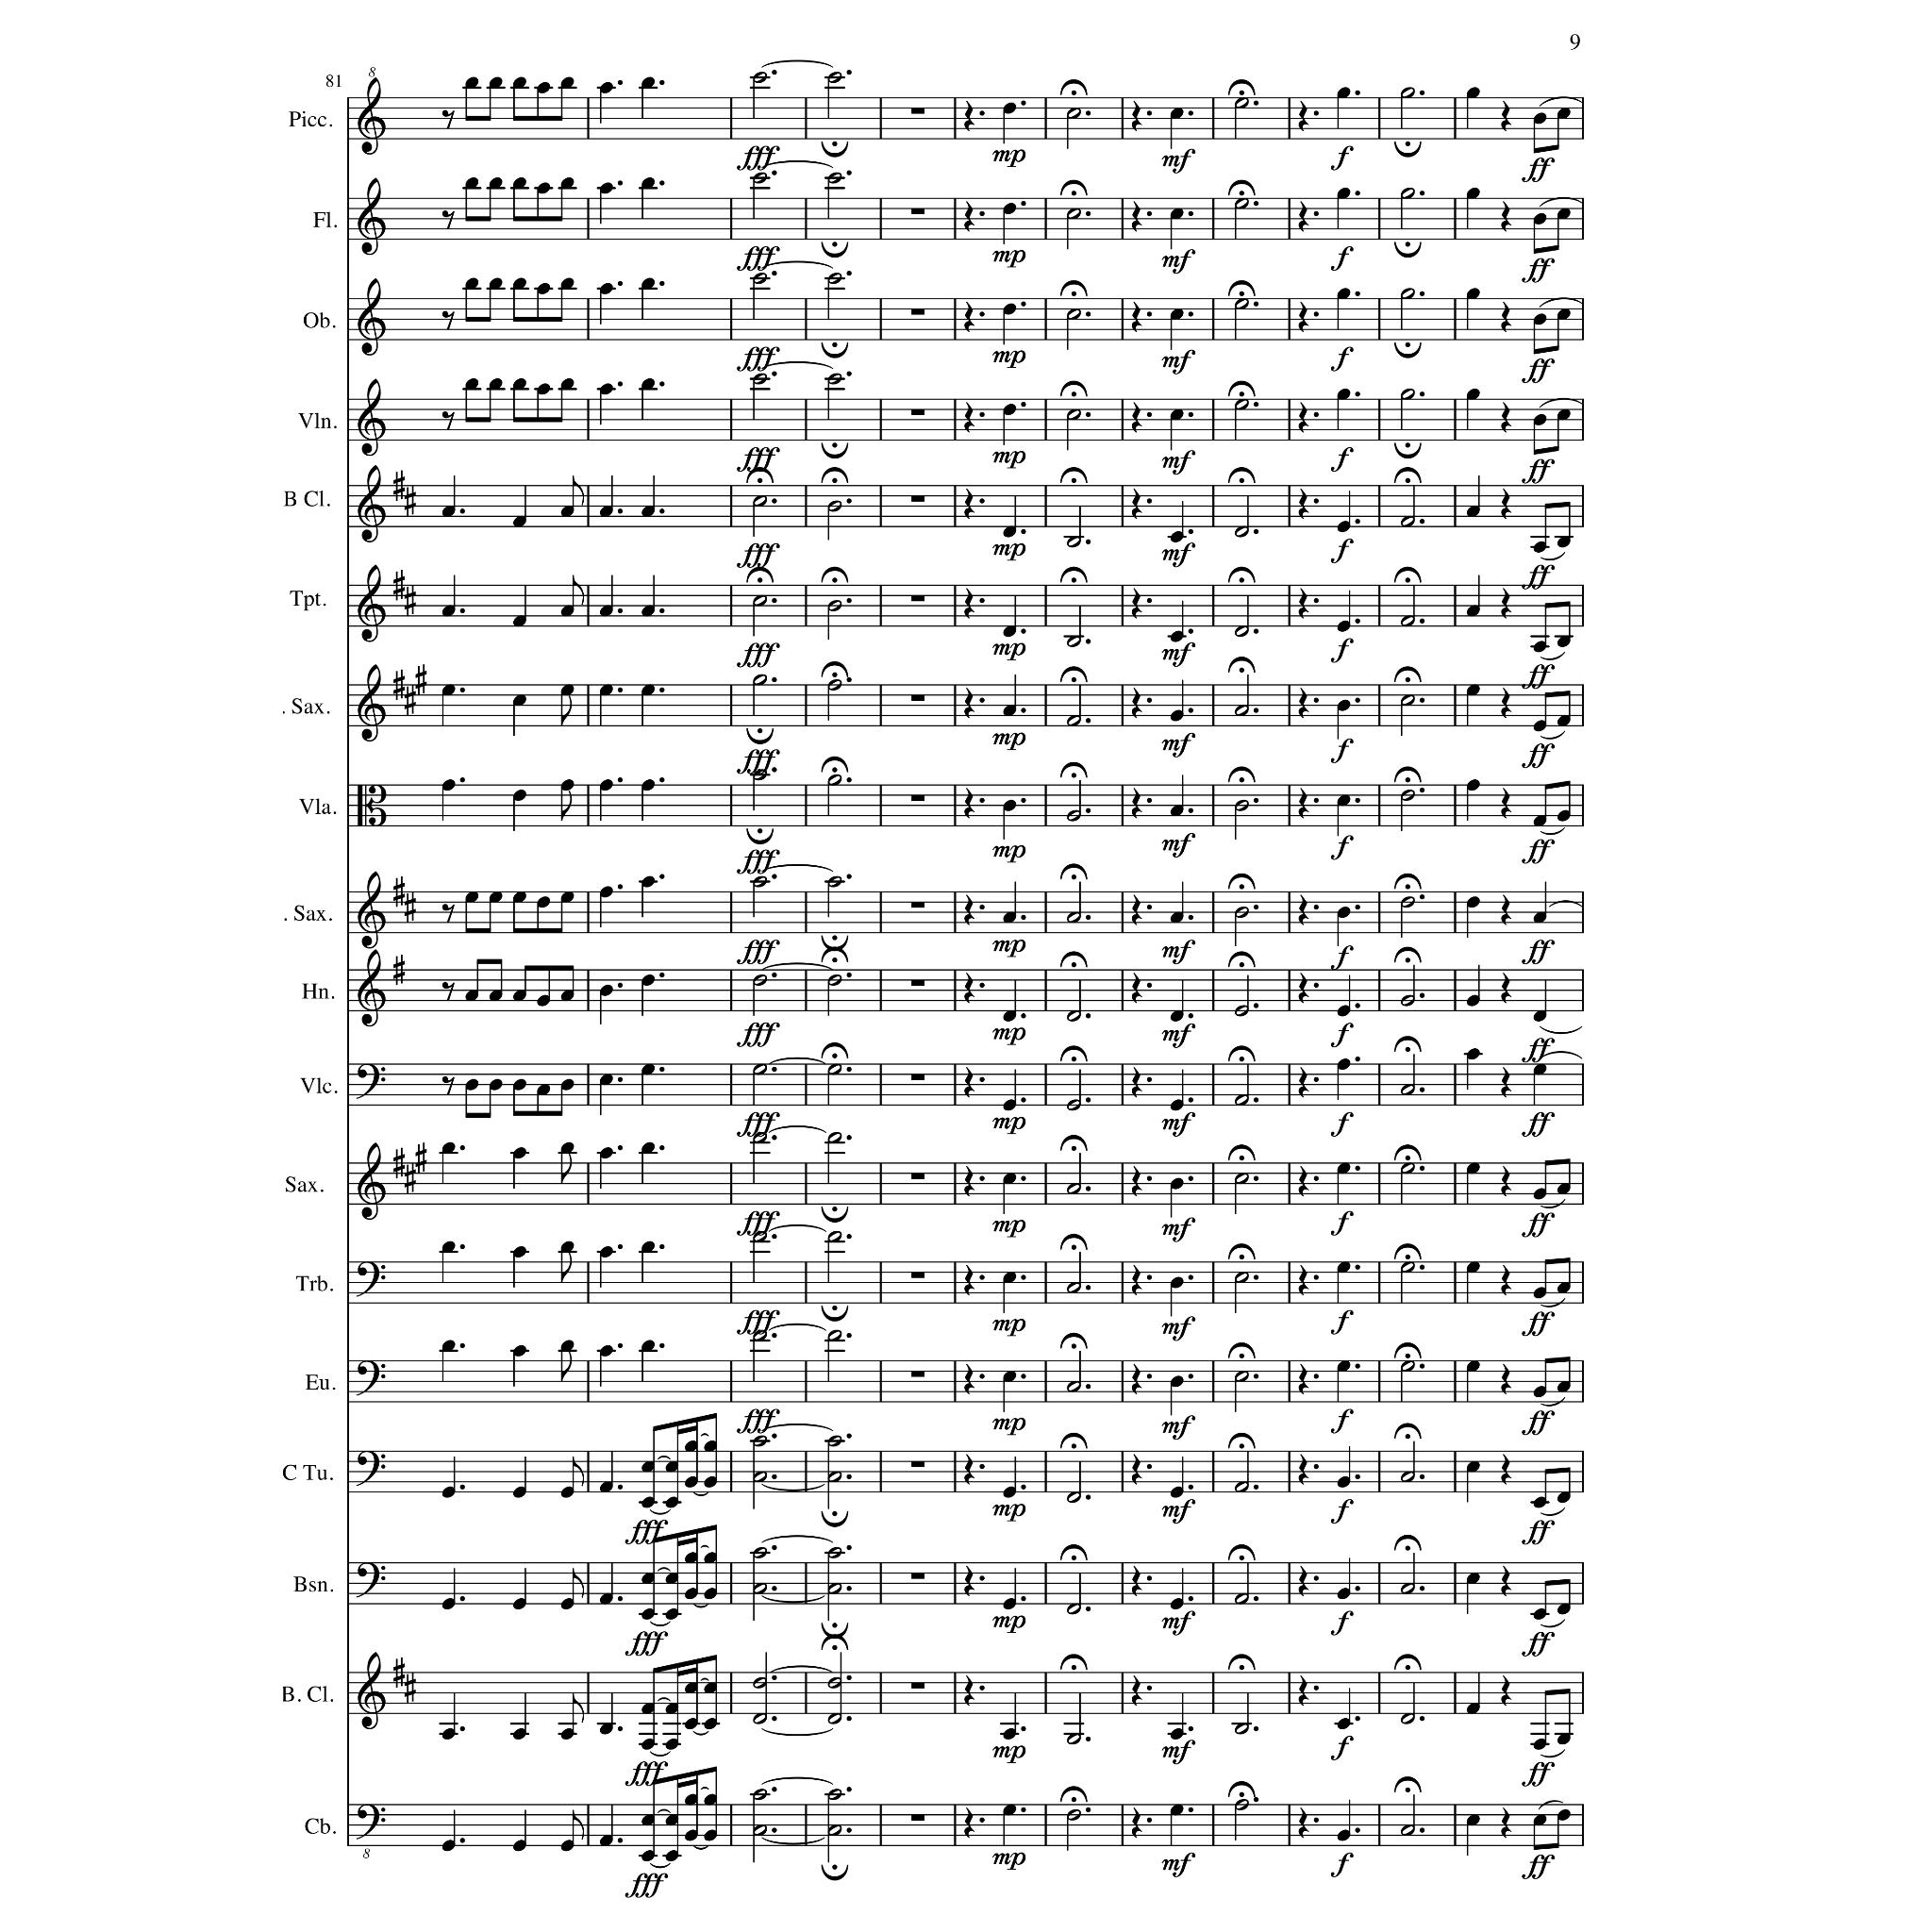fClef: (355, 1261, 385, 1297), (355, 1064, 385, 1100), (355, 1562, 385, 1598), (355, 1360, 385, 1396), (355, 1451, 385, 1487), (355, 1805, 385, 1840)
flag8thDown: (560, 1351, 572, 1381), (560, 791, 572, 821), (560, 1154, 572, 1184), (560, 1253, 572, 1283), (560, 695, 572, 725)
flag8thUp: (573, 1457, 584, 1487), (573, 1568, 584, 1598), (573, 1693, 584, 1724), (573, 1810, 584, 1840), (573, 476, 584, 507), (573, 575, 584, 606)
gClef: (358, 277, 386, 357), (358, 177, 386, 257), (358, 564, 386, 643), (358, 664, 386, 743), (358, 949, 386, 1028), (358, 1651, 386, 1730), (358, 379, 386, 457), (358, 466, 386, 543), (358, 77, 386, 155), (358, 1143, 386, 1221), (358, 872, 386, 949)
noteheadBlack: (1336, 1587, 1351, 1600), (1336, 1162, 1351, 1175), (1336, 1475, 1351, 1489), (1336, 1717, 1351, 1730), (1336, 87, 1351, 100), (1336, 187, 1351, 200), (1336, 521, 1351, 534), (1336, 794, 1351, 808), (1532, 1738, 1547, 1751), (1532, 313, 1547, 326), (1532, 413, 1547, 426), (1532, 911, 1547, 924), (1532, 1009, 1547, 1023), (1532, 1287, 1547, 1300), (1532, 1496, 1547, 1509), (1532, 1607, 1547, 1621), (640, 1849, 655, 1862), (640, 974, 655, 987), (640, 1141, 655, 1155), (640, 1340, 655, 1353), (640, 1496, 655, 1509), (640, 1460, 655, 1474), (640, 1607, 655, 1621), (640, 1572, 655, 1585), (640, 1738, 655, 1751), (640, 1702, 655, 1715), (640, 875, 655, 889), (640, 277, 655, 291), (640, 377, 655, 391), (664, 1496, 679, 1509), (683, 1717, 698, 1730), (683, 1681, 698, 1694), (683, 1587, 698, 1600), (664, 1460, 679, 1474), (664, 1607, 679, 1621), (664, 1572, 679, 1585), (664, 1738, 679, 1751), (664, 1702, 679, 1715), (664, 1849, 679, 1862), (683, 1475, 698, 1489), (683, 1440, 698, 1453), (511, 891, 526, 904), (511, 1840, 526, 1853), (511, 789, 526, 802), (511, 277, 526, 291), (511, 377, 526, 391), (511, 515, 526, 528), (511, 615, 526, 628), (511, 694, 526, 708), (536, 81, 551, 94), (464, 277, 479, 291), (464, 377, 479, 391), (464, 891, 479, 904), (598, 1074, 613, 1087), (598, 1481, 613, 1494), (598, 1592, 613, 1606), (598, 1723, 613, 1736), (598, 1834, 613, 1847), (598, 383, 613, 396), (598, 81, 613, 94), (536, 383, 551, 396), (536, 896, 551, 909), (536, 994, 551, 1008), (536, 1083, 551, 1096), (1002, 1272, 1017, 1285), (1002, 1370, 1017, 1383), (1002, 1804, 1017, 1817), (1002, 102, 1017, 115), (1002, 202, 1017, 215), (1002, 911, 1017, 924), (1002, 1009, 1017, 1023), (1170, 630, 1183, 643), (1170, 208, 1183, 221), (1170, 308, 1183, 321), (1170, 530, 1183, 543), (1170, 709, 1183, 723), (1170, 911, 1183, 924), (1170, 1009, 1183, 1023), (1170, 1177, 1183, 1191), (1170, 1375, 1183, 1389), (1170, 1804, 1183, 1817), (1557, 208, 1570, 221), (1557, 308, 1570, 321), (1557, 536, 1570, 549), (1557, 809, 1570, 823), (1557, 1281, 1570, 1294), (1557, 1491, 1570, 1504), (1466, 1702, 1479, 1715), (1466, 1572, 1479, 1585), (1466, 87, 1479, 100), (1466, 187, 1479, 200), (1466, 896, 1479, 909), (1466, 994, 1479, 1008), (1466, 1162, 1479, 1175), (1466, 1460, 1479, 1474), (704, 1475, 717, 1489), (704, 1440, 717, 1453), (704, 1587, 717, 1600), (704, 1717, 717, 1730), (704, 1681, 717, 1694), (489, 891, 502, 904), (489, 277, 502, 291), (489, 377, 502, 391), (560, 277, 574, 291), (560, 377, 574, 391), (560, 891, 574, 904), (560, 1141, 574, 1155), (560, 1340, 574, 1353), (560, 1840, 574, 1853), (441, 1141, 455, 1155), (441, 1340, 455, 1353), (441, 1840, 455, 1853), (1336, 908, 1351, 919), (1336, 1006, 1351, 1017), (1336, 1058, 1351, 1070), (1336, 1262, 1351, 1274), (1336, 1360, 1351, 1372), (1336, 1830, 1351, 1841), (1336, 289, 1351, 300), (1336, 389, 1351, 400), (1336, 621, 1351, 632), (1336, 700, 1351, 711), (1532, 1815, 1547, 1826), (1532, 541, 1547, 553), (1532, 641, 1547, 653), (1532, 721, 1547, 732), (1532, 815, 1547, 826), (1532, 213, 1547, 225), (1532, 1064, 1547, 1075), (1532, 1189, 1547, 1200), (1532, 1387, 1547, 1398), (1532, 113, 1547, 125), (640, 1064, 655, 1075), (640, 1241, 655, 1253), (640, 1815, 655, 1826), (640, 77, 655, 89), (640, 177, 655, 189), (640, 506, 655, 517), (640, 606, 655, 617), (640, 685, 655, 696), (640, 779, 655, 791), (683, 1553, 698, 1564), (683, 1830, 698, 1841), (683, 1794, 698, 1806), (664, 1815, 679, 1826), (511, 991, 526, 1002), (511, 1079, 526, 1091), (511, 1147, 526, 1158), (511, 1247, 526, 1258), (511, 1345, 526, 1357), (511, 1487, 526, 1498), (511, 1598, 526, 1609), (511, 1728, 526, 1740), (511, 77, 526, 89), (511, 177, 526, 189), (536, 183, 551, 194), (464, 77, 479, 89), (464, 177, 479, 189), (464, 991, 479, 1002), (464, 1079, 479, 1091), (536, 283, 551, 294), (598, 506, 613, 517), (598, 606, 613, 617), (598, 685, 613, 696), (598, 779, 613, 791), (598, 887, 613, 898), (598, 985, 613, 996), (598, 1147, 613, 1158), (598, 1247, 613, 1258), (598, 1345, 613, 1357), (598, 183, 613, 194), (598, 283, 613, 294), (1002, 1487, 1017, 1498), (1002, 1598, 1017, 1609), (1002, 1728, 1017, 1740), (1002, 1174, 1017, 1185), (1002, 304, 1017, 315), (1002, 404, 1017, 415), (1002, 526, 1017, 538), (1002, 626, 1017, 638), (1002, 706, 1017, 717), (1002, 800, 1017, 811), (1002, 1100, 1017, 1111), (1170, 108, 1183, 119), (1170, 409, 1183, 421), (1170, 806, 1183, 817), (1170, 1100, 1183, 1111), (1170, 1277, 1183, 1289), (1170, 1487, 1183, 1498), (1170, 1598, 1183, 1609), (1170, 1728, 1183, 1740), (1557, 1809, 1570, 1821), (1557, 108, 1570, 119), (1557, 409, 1570, 421), (1557, 636, 1570, 647), (1557, 715, 1570, 726), (1557, 1183, 1570, 1194), (1557, 1381, 1570, 1392), (1557, 1604, 1570, 1615), (1557, 1734, 1570, 1745), (1466, 1815, 1479, 1826), (1466, 289, 1479, 300), (1466, 389, 1479, 400), (1466, 506, 1479, 517), (1466, 606, 1479, 617), (1466, 685, 1479, 696), (1466, 779, 1479, 791), (1466, 1049, 1479, 1060), (1466, 1262, 1479, 1274), (1466, 1360, 1479, 1372), (704, 1553, 717, 1564), (704, 1830, 717, 1841), (704, 1794, 717, 1806), (489, 77, 502, 89), (489, 177, 502, 189), (489, 991, 502, 1002), (489, 1079, 502, 1091), (560, 685, 574, 696), (560, 77, 574, 89), (560, 177, 574, 189), (560, 506, 574, 517), (560, 606, 574, 617), (560, 779, 574, 791), (560, 991, 574, 1002), (560, 1079, 574, 1091), (560, 1241, 574, 1253), (560, 1487, 574, 1498), (560, 1598, 574, 1609), (560, 1728, 574, 1740), (441, 1241, 455, 1253), (441, 1487, 455, 1498), (441, 606, 455, 617), (441, 506, 455, 517), (441, 779, 455, 791), (441, 685, 455, 696), (441, 1598, 455, 1609), (441, 1728, 455, 1740)
noteheadHalf: (1400, 87, 1415, 100), (1400, 187, 1415, 200), (1400, 515, 1415, 528), (1400, 615, 1415, 628), (1400, 694, 1415, 708), (1400, 789, 1415, 802), (1400, 896, 1415, 909), (1400, 994, 1415, 1008), (1400, 1083, 1415, 1096), (1234, 1798, 1249, 1811), (1234, 398, 1249, 411), (1234, 1272, 1249, 1285), (1234, 1370, 1249, 1383), (1234, 1481, 1249, 1494), (1234, 1592, 1249, 1606), (1234, 1723, 1249, 1736), (1400, 1162, 1415, 1175), (752, 974, 767, 987), (752, 594, 767, 608), (752, 674, 767, 687), (752, 875, 767, 889), (752, 1230, 767, 1243), (752, 72, 767, 85), (752, 172, 767, 185), (752, 272, 767, 285), (1066, 911, 1081, 924), (1066, 208, 1081, 221), (1066, 308, 1081, 321), (1066, 536, 1081, 549), (1066, 809, 1081, 823), (1066, 1009, 1081, 1023), (1066, 1281, 1081, 1294), (1066, 1491, 1081, 1504), (826, 974, 841, 987), (826, 1230, 841, 1243), (826, 875, 841, 889), (826, 72, 841, 85), (826, 172, 841, 185), (826, 272, 841, 285), (826, 500, 841, 513), (826, 600, 841, 613), (826, 679, 841, 692), (826, 774, 841, 787), (1400, 389, 1415, 400), (1400, 289, 1415, 300), (1234, 1006, 1249, 1017), (1234, 298, 1249, 309), (1234, 526, 1249, 538), (1234, 626, 1249, 638), (1234, 706, 1249, 717), (1234, 800, 1249, 811), (1234, 908, 1249, 919), (1234, 1094, 1249, 1106), (1234, 1174, 1249, 1185), (1400, 1824, 1415, 1836), (1234, 98, 1249, 109), (1234, 198, 1249, 209), (1400, 1262, 1415, 1274), (1400, 1360, 1415, 1372), (1400, 1472, 1415, 1483), (1400, 1583, 1415, 1594), (1400, 1713, 1415, 1724), (752, 1824, 767, 1836), (752, 1789, 767, 1800), (752, 1677, 767, 1689), (752, 496, 767, 508), (752, 770, 767, 781), (752, 1064, 767, 1075), (752, 1132, 767, 1143), (752, 1330, 767, 1341), (752, 1472, 767, 1483), (752, 1436, 767, 1447), (752, 1583, 767, 1594), (752, 1547, 767, 1558), (752, 1713, 767, 1724), (752, 374, 767, 385), (1066, 409, 1081, 421), (1066, 636, 1081, 647), (1066, 715, 1081, 726), (1066, 108, 1081, 119), (1066, 1100, 1081, 1111), (1066, 1183, 1081, 1194), (1066, 1381, 1081, 1392), (1066, 1604, 1081, 1615), (1066, 1734, 1081, 1745), (1066, 1809, 1081, 1821), (826, 1547, 841, 1558), (826, 1064, 841, 1075), (826, 1132, 841, 1143), (826, 1330, 841, 1341), (826, 1472, 841, 1483), (826, 1436, 841, 1447), (826, 1583, 841, 1594), (826, 1713, 841, 1724), (826, 1677, 841, 1689), (826, 1824, 841, 1836), (826, 1789, 841, 1800), (826, 374, 841, 385)
rest8th: (441, 1075, 455, 1096), (441, 981, 455, 1002), (441, 411, 455, 432), (441, 904, 455, 924), (441, 109, 455, 130), (441, 311, 455, 330), (441, 211, 455, 230)
restQuarter: (1297, 100, 1308, 132), (1297, 301, 1308, 333), (1297, 402, 1308, 434), (1297, 588, 1308, 620), (1297, 688, 1308, 720), (1297, 894, 1308, 926), (1297, 973, 1308, 1005), (1297, 1264, 1308, 1296), (1297, 1363, 1308, 1395), (1297, 1565, 1308, 1597), (1297, 1674, 1308, 1707), (1297, 1807, 1308, 1839), (1130, 402, 1141, 434), (1130, 100, 1141, 132), (1130, 301, 1141, 333), (1130, 588, 1141, 620), (1130, 688, 1141, 720), (1130, 894, 1141, 926), (1130, 973, 1141, 1005), (1130, 1264, 1141, 1296), (1130, 1363, 1141, 1395), (1130, 1565, 1141, 1597), (1130, 1674, 1141, 1707), (1130, 1807, 1141, 1839), (1500, 1807, 1511, 1839), (1500, 402, 1511, 434), (1500, 588, 1511, 620), (1500, 688, 1511, 720), (1500, 894, 1511, 926), (1500, 973, 1511, 1005), (1500, 1264, 1511, 1296), (1500, 1363, 1511, 1395), (1500, 1565, 1511, 1597), (1500, 1674, 1511, 1707), (1500, 301, 1511, 333), (1500, 100, 1511, 132), (963, 402, 974, 434), (963, 100, 974, 132), (963, 301, 974, 333), (963, 588, 974, 620), (963, 688, 974, 720), (963, 894, 974, 926), (963, 973, 974, 1005), (963, 1264, 974, 1296), (963, 1363, 974, 1395), (963, 1565, 974, 1597), (963, 1674, 974, 1707), (963, 1807, 974, 1839), (1297, 1166, 1308, 1196), (1297, 202, 1308, 232), (1297, 489, 1308, 519), (1297, 789, 1308, 819), (1297, 1068, 1308, 1098), (1297, 1455, 1308, 1485), (1130, 202, 1141, 232), (1130, 489, 1141, 519), (1130, 789, 1141, 819), (1130, 1068, 1141, 1098), (1130, 1166, 1141, 1196), (1130, 1455, 1141, 1485), (1500, 489, 1511, 519), (1500, 789, 1511, 819), (1500, 1068, 1511, 1098), (1500, 1166, 1511, 1196), (1500, 1455, 1511, 1485), (1500, 202, 1511, 232), (963, 202, 974, 232), (963, 489, 974, 519), (963, 789, 974, 819), (963, 1068, 974, 1098), (963, 1166, 974, 1196), (963, 1455, 974, 1485)
restWhole: (909, 694, 924, 702), (909, 1272, 924, 1279), (909, 1074, 924, 1081), (909, 979, 924, 987), (909, 794, 924, 802), (909, 409, 924, 417), (909, 108, 924, 115), (909, 1372, 924, 1377), (909, 1174, 924, 1179), (909, 902, 924, 908), (909, 596, 924, 602), (909, 496, 924, 502), (909, 309, 924, 315), (909, 209, 924, 215), (909, 1815, 924, 1821), (909, 1683, 924, 1689), (909, 1574, 924, 1579), (909, 1462, 924, 1468)
